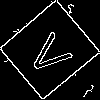V: (25, 25, 81, 80)
